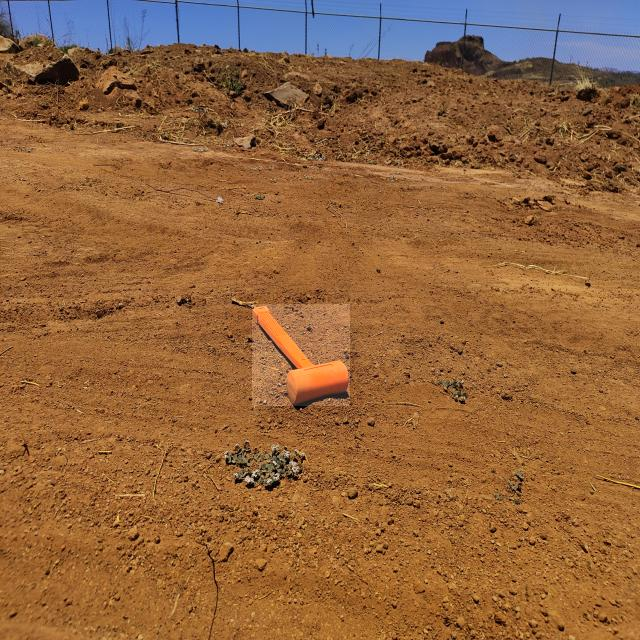Orange_hammer: (252, 304, 350, 406)
